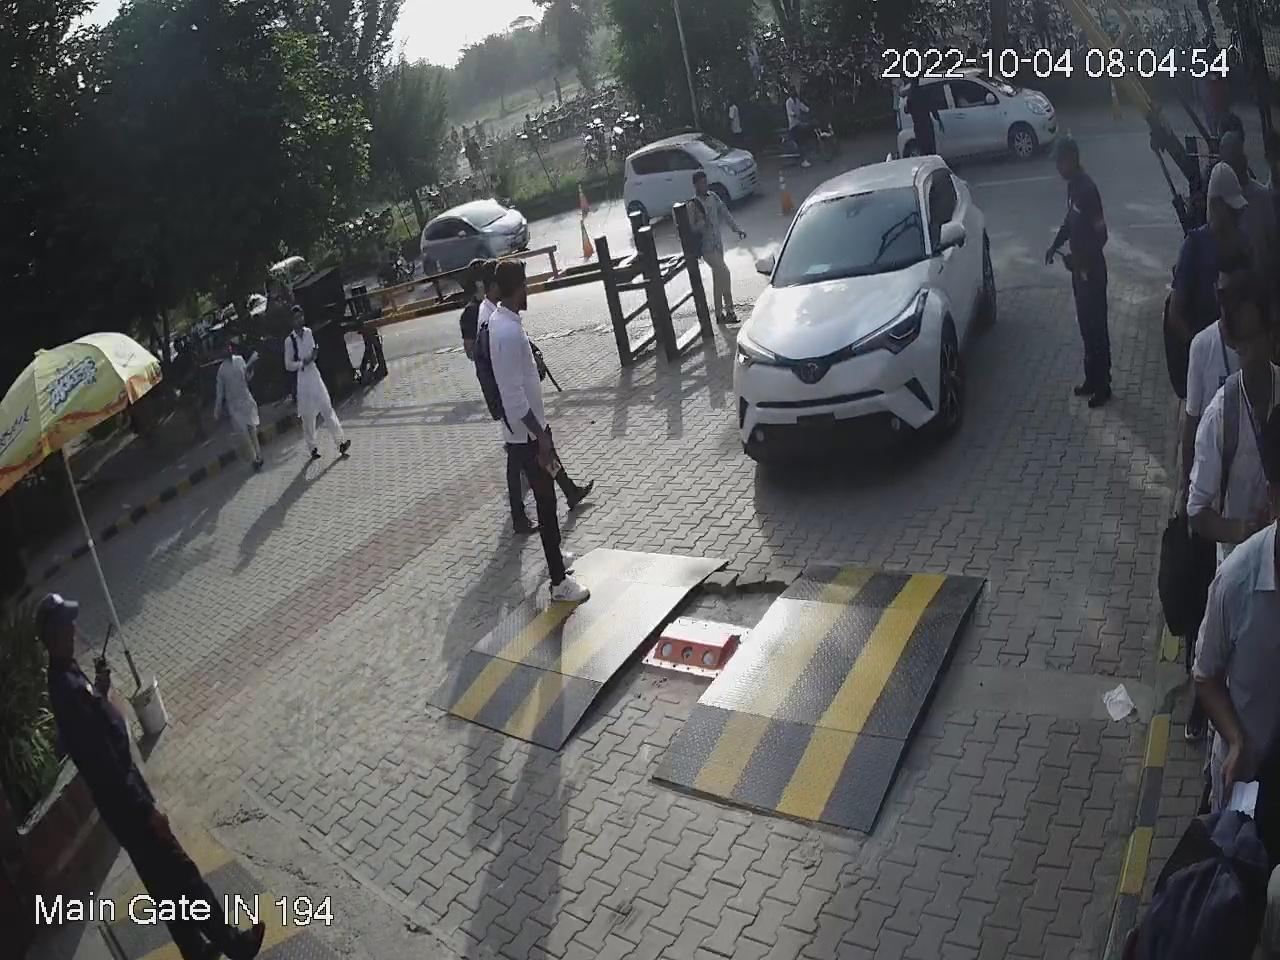windshield: (763, 183, 925, 287)
